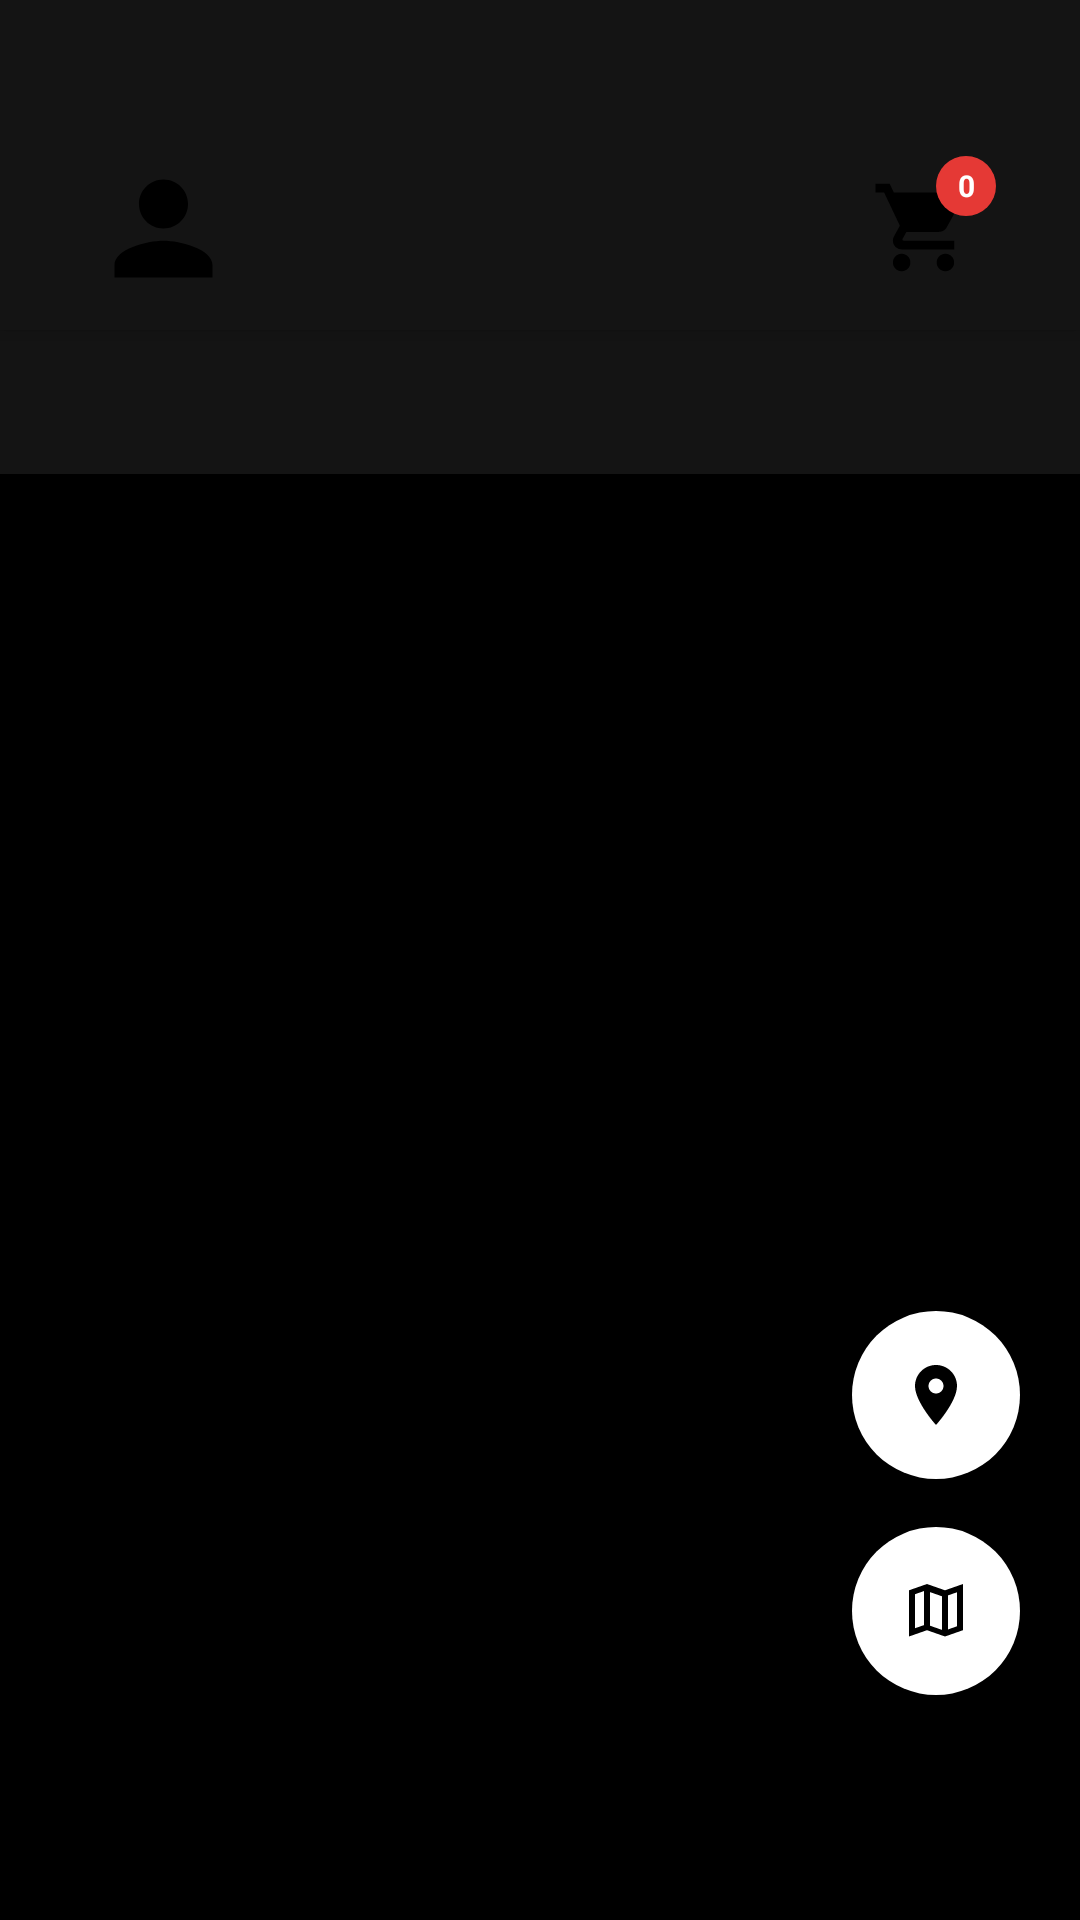

Point at icon controls on the screen. Image size 1080px×1920px, points as (x=x, y=y).
Show restaurants on map: (x=936, y=1611)
Sort restaurants by distance: (x=936, y=1395)
